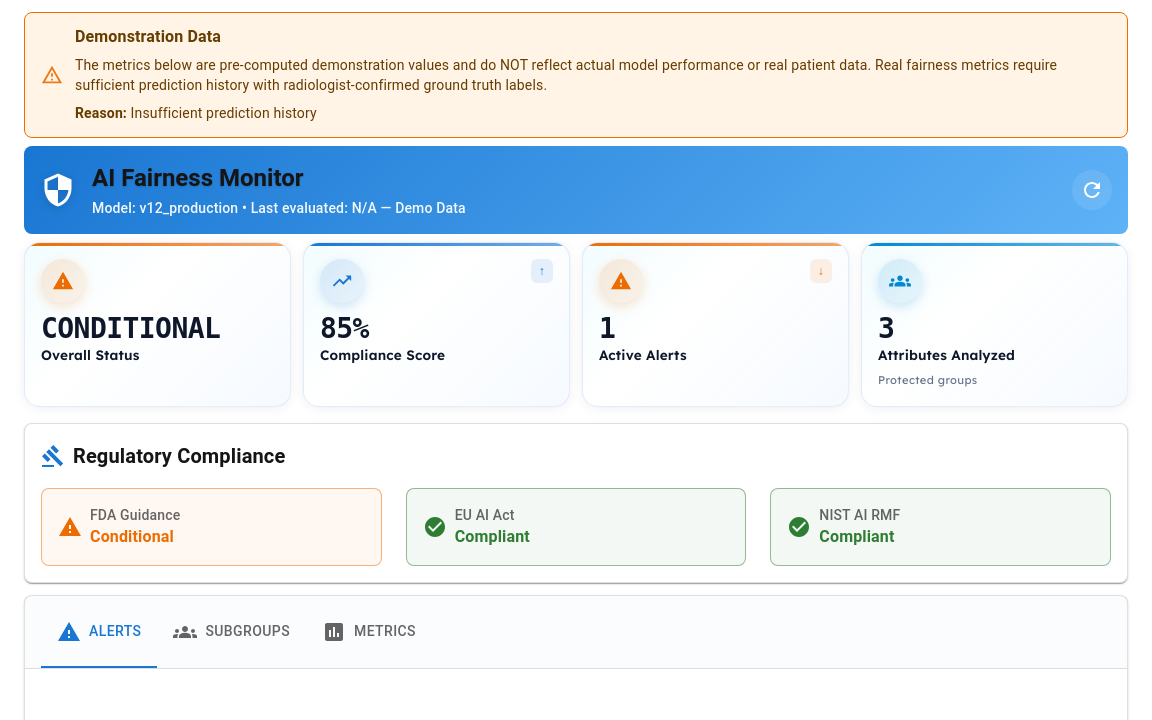
Scenario: FairnessDashboard — Metrics Tab › renders per-attribute metric cards with status and max disparity
expect the heading "AI Fairness Monitor" is shown: met, box 92,164 -> 304,192
# Click Metrics tab
Click the tab "Metrics" at (369, 632), box 306,596 -> 432,668
(page scrolled)
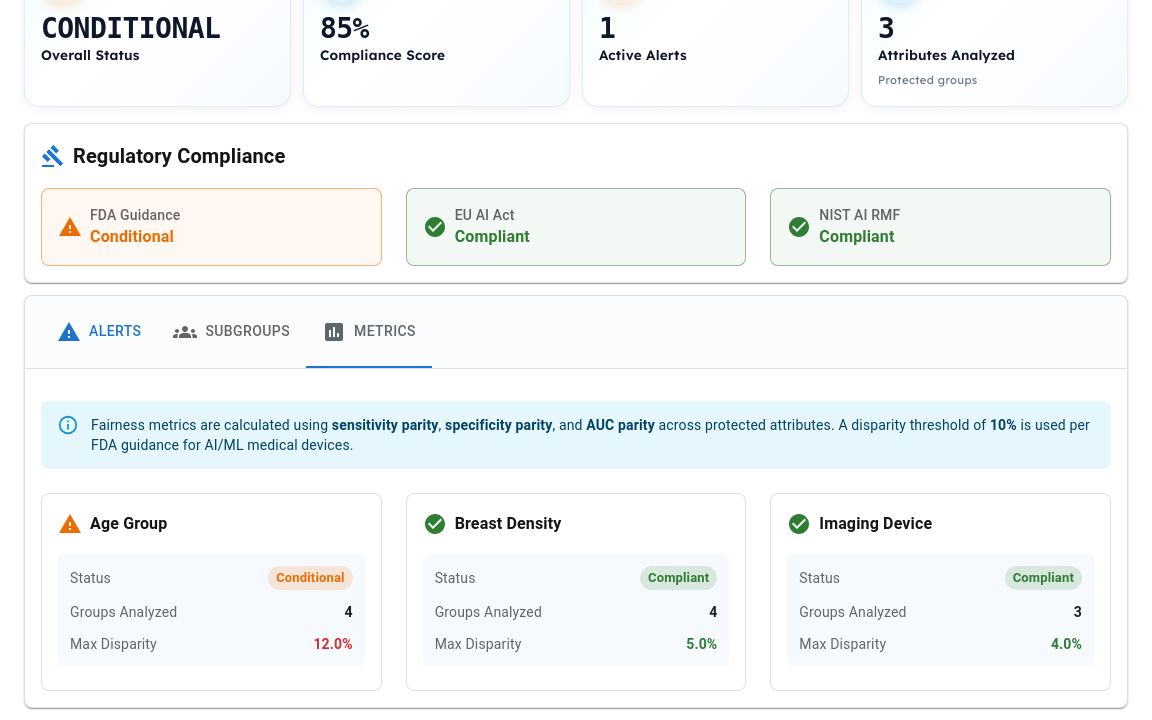
expect the heading "age group" is shown: met, box 90,510 -> 167,538
expect the heading "breast density" is shown: met, box 455,510 -> 562,538
